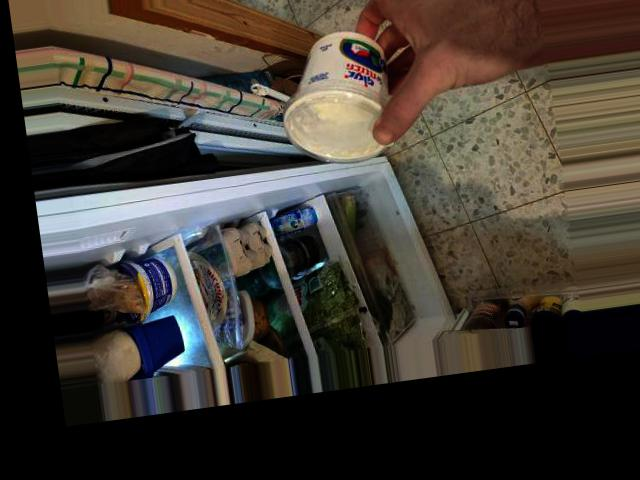cotage: (264, 40, 397, 155)
